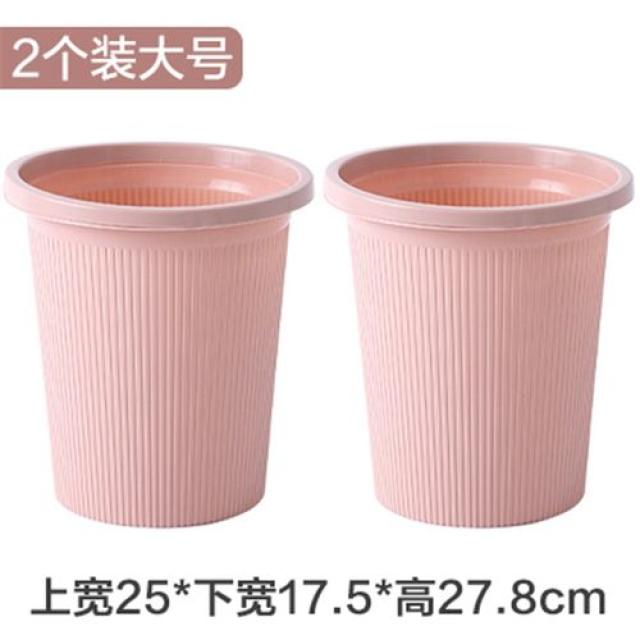dustbin: (316, 137, 640, 532), (4, 138, 318, 531)
